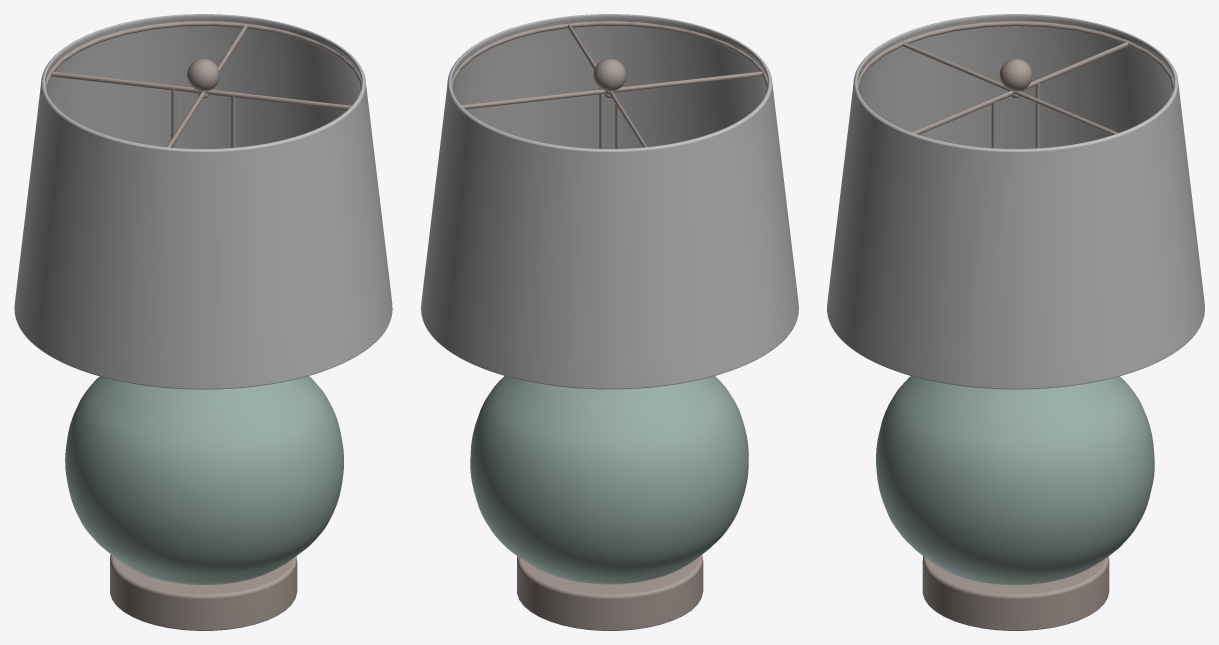
Rendered from abo-B073751DML.glb.
3 renders of one model, left to right at view 1: azimuth 30°, elevation 25°; view 2: azimuth 150°, elevation 25°; view 3: azimuth 270°, elevation 25°, orthographic.
Bounding box in the file's own units: 0.34 × 0.528 × 0.34.
Materials: 1 (1 with a texture image).
